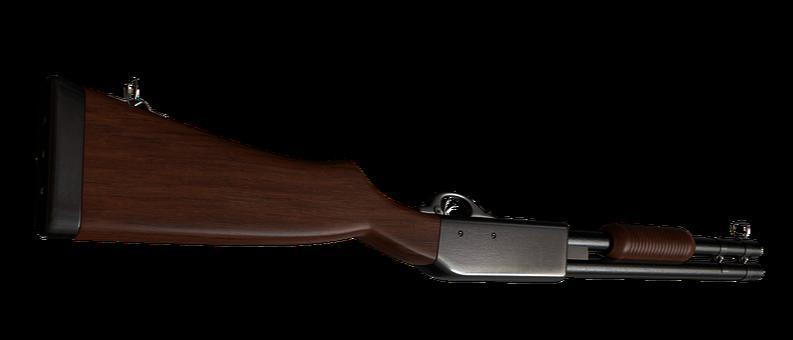gun: (36, 70, 766, 284)
